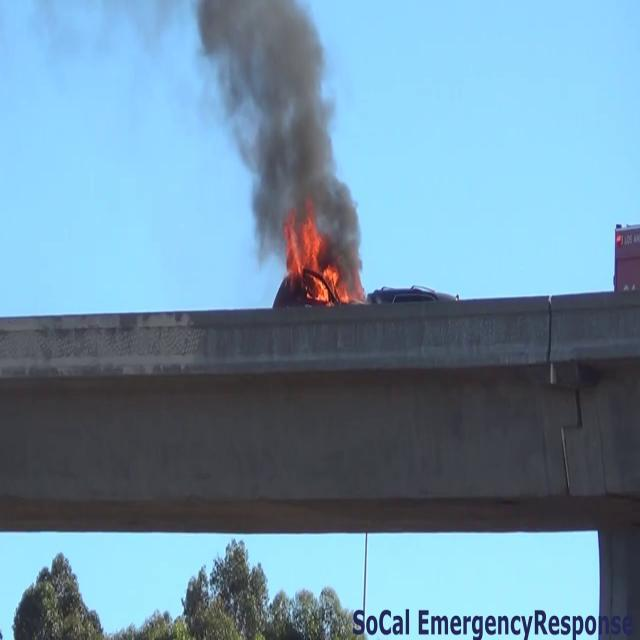Fire: (288, 217, 346, 303)
Smoke: (188, 0, 362, 260)
